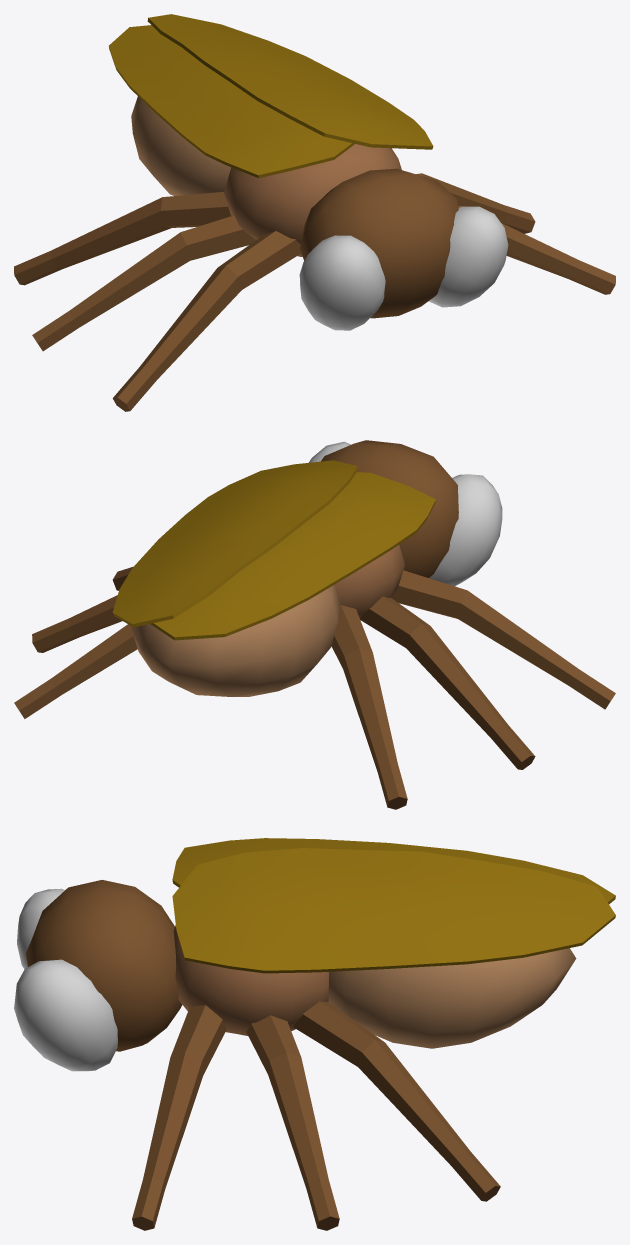
File: roach.fbx
3 renders of one model, top to bottom at view 1: azimuth 30°, elevation 25°; view 2: azimuth 150°, elevation 25°; view 3: azimuth 270°, elevation 25°, orthographic. The views are drawn at different scales.
Parts seen in each view (by area): view 1: roach; view 2: roach; view 3: roach.
Part boxes in pixels (x1,y1,x2,y2): roach: (14, 14, 615, 411); roach: (14, 440, 615, 809); roach: (14, 838, 615, 1230).
Size of the model in its own units: 213 by 86.64 by 202.
